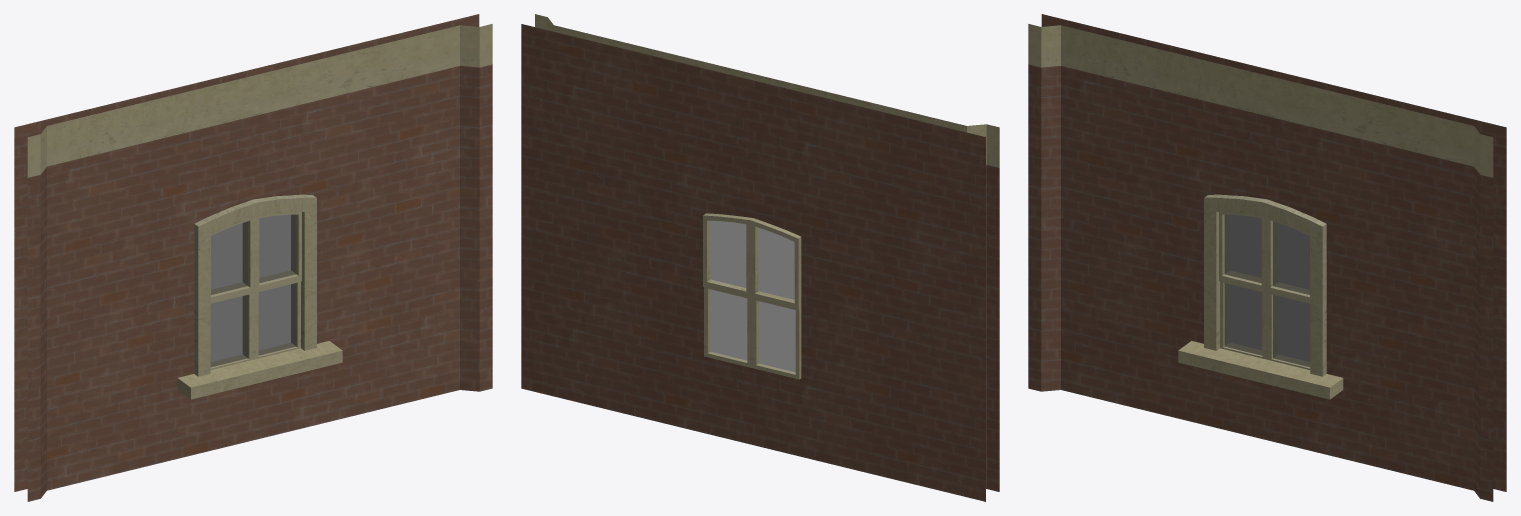
File: Brick_Inset_Window_Curved_Small.glb
3 renders of one model, left to right at view 1: azimuth 30°, elevation 25°; view 2: azimuth 150°, elevation 25°; view 3: azimuth 330°, elevation 25°, orthographic.
Parts seen in each view (by area): view 1: Brick_Inset_Window_Curved_Small; view 2: Brick_Inset_Window_Curved_Small; view 3: Brick_Inset_Window_Curved_Small.
Part boxes in pixels (<box>): Brick_Inset_Window_Curved_Small: <box>14,14,492,501</box>; Brick_Inset_Window_Curved_Small: <box>521,14,999,501</box>; Brick_Inset_Window_Curved_Small: <box>1028,14,1506,501</box>.
Size of the model in its own units: 4 by 3 by 0.3426.
4 materials, 2 textured.
